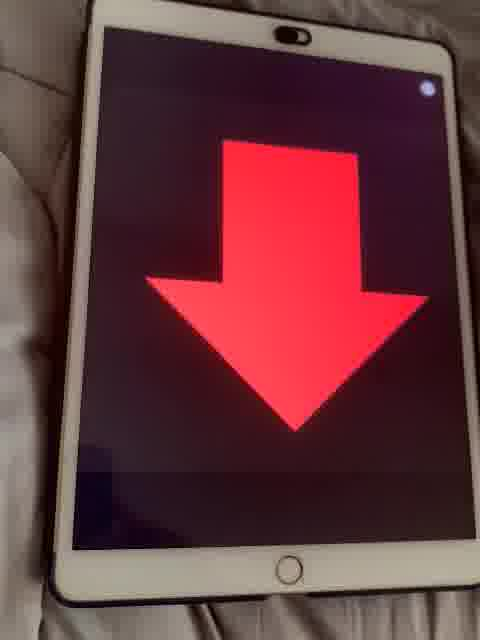down: (139, 129, 431, 439)
